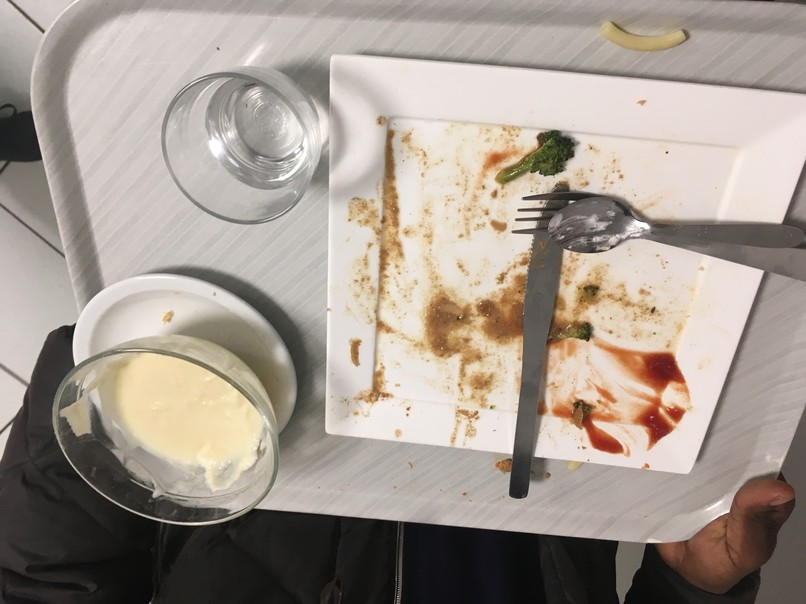cup: (138, 65, 329, 233)
cutlery: (516, 181, 806, 288), (496, 179, 582, 494)
orga: (121, 351, 254, 473), (500, 128, 587, 186)
